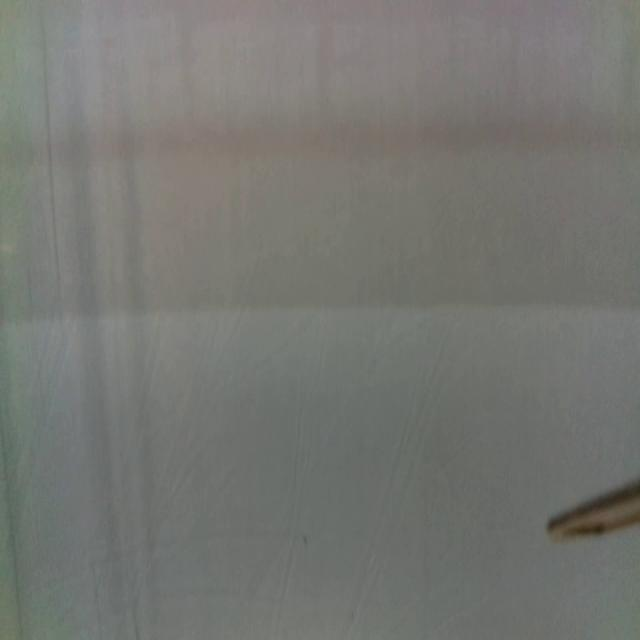color bleeding: (1, 111, 640, 323)
crease: (0, 415, 24, 636), (42, 18, 58, 288)
